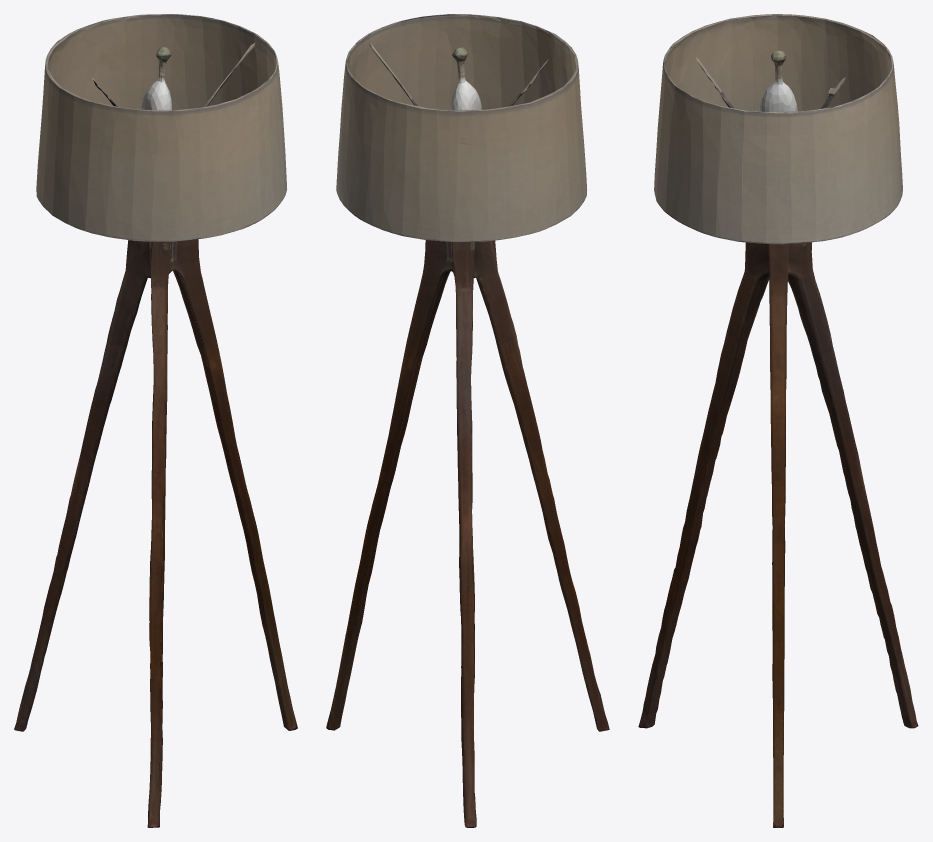
The picture shows the model from 3 angles, left to right: view 1: azimuth 30°, elevation 25°; view 2: azimuth 150°, elevation 25°; view 3: azimuth 270°, elevation 25°; orthographic projection.
Visible parts, largest first — view 1: world; view 2: world; view 3: world.
Part boxes in pixels (x1,y1,x2,y2): world: (14, 14, 297, 827); world: (326, 14, 609, 827); world: (638, 14, 918, 827).
Bounding box in the file's own units: 0.3565 × 1 × 0.3557.
1 material, 1 textured.
